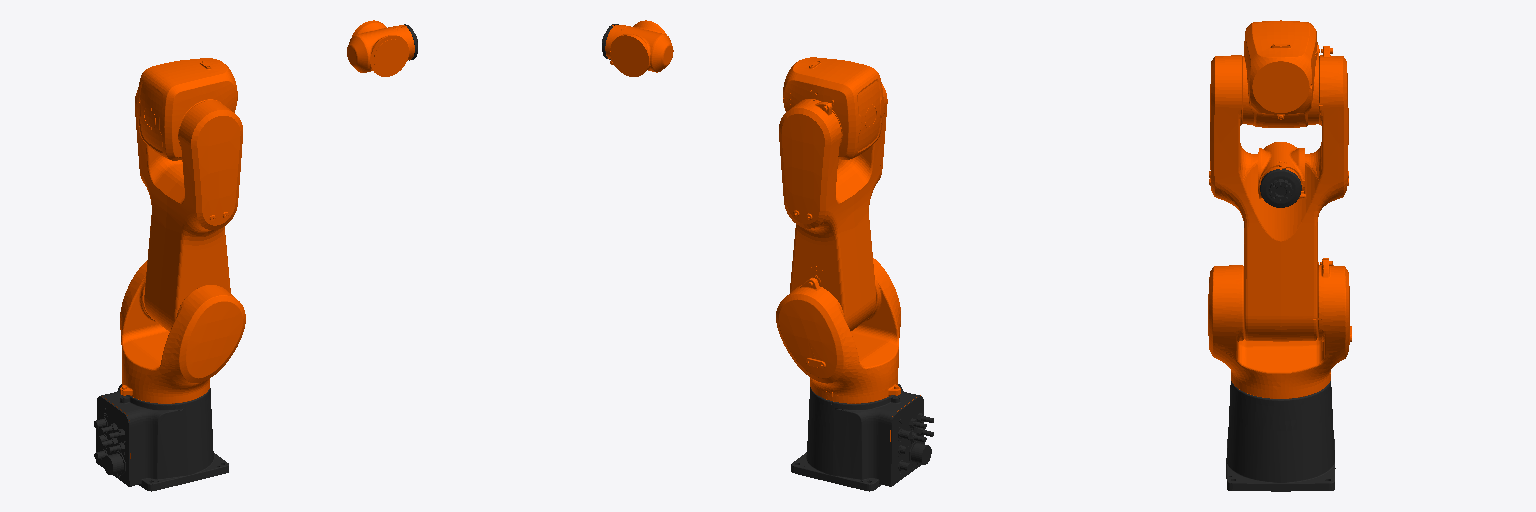
robot.urdf — kuka_kr_7_r900_3_e:
<?xml version="1.0"?>
<robot name="kuka_kr_7_r900_3_e">
  <material name="kuka_orange"><color rgba="1.00 0.40 0.00 1.0"/></material>
  <material name="kuka_dark_gray"><color rgba="0.20 0.20 0.20 1.0"/></material>

  <link name="base_link">
    <inertial>
      <origin xyz="-0.023319 -0.000601 0.079598" rpy="0 0 0"/>
      <mass value="12.444"/>
      <inertia ixx="0.068915" ixy="-0.000585" ixz="0.001129" iyy="0.083646" iyz="-0.000027" izz="0.079696"/>
    </inertial>
    <visual>
      <origin xyz="0 0 0" rpy="0 0 0"/>
      <geometry><mesh filename="meshes/visual/base_link.stl"/></geometry>
      <material name="kuka_dark_gray"/>
    </visual>
    <collision>
      <origin xyz="0 0 0" rpy="0 0 0"/>
      <geometry><mesh filename="meshes/visual/base_link.stl"/></geometry>
    </collision>
  </link>

  <link name="link_1">
    <inertial>
      <origin xyz="0.021613 -0.001135 0.278907" rpy="0 0 0"/>
      <mass value="16.333"/>
      <inertia ixx="0.130600" ixy="0.000041" ixz="-0.013331" iyy="0.092271" iyz="0.000093" izz="0.108988"/>
    </inertial>
    <visual>
      <origin xyz="0 0 0" rpy="0 0 0"/>
      <geometry><mesh filename="meshes/visual/link_1.stl"/></geometry>
      <material name="kuka_orange"/>
    </visual>
    <collision>
      <origin xyz="0 0 0" rpy="0 0 0"/>
      <geometry><mesh filename="meshes/visual/link_1.stl"/></geometry>
    </collision>
  </link>

  <link name="link_2">
    <inertial>
      <origin xyz="-0.000636 -0.001743 0.212659" rpy="0 0 0"/>
      <mass value="20.222"/>
      <inertia ixx="0.393340" ixy="0.000117" ixz="0.000545" iyy="0.343101" iyz="0.001696" izz="0.110768"/>
    </inertial>
    <visual>
      <origin xyz="0 0 0" rpy="0 0 0"/>
      <geometry><mesh filename="meshes/visual/link_2.stl"/></geometry>
      <material name="kuka_orange"/>
    </visual>
    <collision>
      <origin xyz="0 0 0" rpy="0 0 0"/>
      <geometry><mesh filename="meshes/visual/link_2.stl"/></geometry>
    </collision>
  </link>

  <link name="link_3">
    <inertial>
      <origin xyz="-0.005567 0.000101 0.021640" rpy="0 0 0"/>
      <mass value="15.556"/>
      <inertia ixx="0.065493" ixy="-0.000013" ixz="-0.002737" iyy="0.074634" iyz="-0.000030" izz="0.066513"/>
    </inertial>
    <visual>
      <origin xyz="0 0 0" rpy="0 0 0"/>
      <geometry><mesh filename="meshes/visual/link_3.stl"/></geometry>
      <material name="kuka_orange"/>
    </visual>
    <collision>
      <origin xyz="0 0 0" rpy="0 0 0"/>
      <geometry><mesh filename="meshes/visual/link_3.stl"/></geometry>
    </collision>
  </link>

  <link name="link_4">
    <inertial>
      <origin xyz="-0.152879 0.000991 0.000352" rpy="0 0 0"/>
      <mass value="3.500"/>
      <inertia ixx="0.011369" ixy="-0.000239" ixz="-0.000071" iyy="0.035267" iyz="0.000016" izz="0.037238"/>
    </inertial>
    <visual>
      <origin xyz="0 0 0" rpy="0 0 0"/>
      <geometry><mesh filename="meshes/visual/link_4.stl"/></geometry>
      <material name="kuka_orange"/>
    </visual>
    <collision>
      <origin xyz="0 0 0" rpy="0 0 0"/>
      <geometry><mesh filename="meshes/visual/link_4.stl"/></geometry>
    </collision>
  </link>

  <link name="link_5">
    <inertial>
      <origin xyz="-0.007892 0.001422 -0.004729" rpy="0 0 0"/>
      <mass value="3.111"/>
      <inertia ixx="0.012269" ixy="0.000056" ixz="-0.005279" iyy="0.017330" iyz="0.000108" izz="0.011671"/>
    </inertial>
    <visual>
      <origin xyz="0 0 0" rpy="0 0 0"/>
      <geometry><mesh filename="meshes/visual/link_5.stl"/></geometry>
      <material name="kuka_orange"/>
    </visual>
    <collision>
      <origin xyz="0 0 0" rpy="0 0 0"/>
      <geometry><mesh filename="meshes/visual/link_5.stl"/></geometry>
    </collision>
  </link>

  <link name="link_6">
    <inertial>
      <origin xyz="-0.007510 -0.000020 -0.000067" rpy="0 0 0"/>
      <mass value="1.944"/>
      <inertia ixx="0.002767" ixy="-0.000000" ixz="-0.000001" iyy="0.002380" iyz="0.000000" izz="0.002382"/>
    </inertial>
    <visual>
      <origin xyz="0 0 0" rpy="0 0 0"/>
      <geometry><mesh filename="meshes/visual/link_6.stl"/></geometry>
      <material name="kuka_dark_gray"/>
    </visual>
    <collision>
      <origin xyz="0 0 0" rpy="0 0 0"/>
      <geometry><mesh filename="meshes/visual/link_6.stl"/></geometry>
    </collision>
  </link>

  <link name="tool0"/>

  <joint name="joint_a1" type="revolute">
    <parent link="base_link"/>
    <child link="link_1"/>
    <origin xyz="0.000000 0.000000 0.000000" rpy="0 0 0"/>
    <axis xyz="0.0 0.0 -1.0"/>
    <limit lower="-3.228859" upper="3.228859" effort="505.6" velocity="3.000000"/>
    <dynamics damping="5.0" friction="1.0"/>
  </joint>

  <joint name="joint_a2" type="revolute">
    <parent link="link_1"/>
    <child link="link_2"/>
    <origin xyz="0.050000 0.000000 0.342000" rpy="0 0 0"/>
    <axis xyz="0.0 1.0 0.0"/>
    <limit lower="-1.745329" upper="2.268928" effort="583.3" velocity="3.000000"/>
    <dynamics damping="5.0" friction="1.0"/>
  </joint>

  <joint name="joint_a3" type="revolute">
    <parent link="link_2"/>
    <child link="link_3"/>
    <origin xyz="0.000000 0.000000 0.410000" rpy="0 0 0"/>
    <axis xyz="0.0 1.0 0.0"/>
    <limit lower="-3.577925" upper="1.221730" effort="388.9" velocity="3.000000"/>
    <dynamics damping="5.0" friction="1.0"/>
  </joint>

  <joint name="joint_a4" type="revolute">
    <parent link="link_3"/>
    <child link="link_4"/>
    <origin xyz="0.440000 0.000000 0.045000" rpy="0 0 0"/>
    <axis xyz="-1.0 0.0 -0.0"/>
    <limit lower="-3.490659" upper="3.490659" effort="155.6" velocity="3.000000"/>
    <dynamics damping="5.0" friction="1.0"/>
  </joint>

  <joint name="joint_a5" type="revolute">
    <parent link="link_4"/>
    <child link="link_5"/>
    <origin xyz="0.000000 0.000000 0.000000" rpy="0 0 0"/>
    <axis xyz="0.0 1.0 0.0"/>
    <limit lower="-2.094395" upper="2.094395" effort="108.9" velocity="3.000000"/>
    <dynamics damping="5.0" friction="1.0"/>
  </joint>

  <joint name="joint_a6" type="revolute">
    <parent link="link_5"/>
    <child link="link_6"/>
    <origin xyz="0.077000 0.000000 0.000000" rpy="0 0 0"/>
    <axis xyz="-1.0 0.0 -0.0"/>
    <limit lower="-6.108652" upper="6.108652" effort="66.1" velocity="3.000000"/>
    <dynamics damping="5.0" friction="1.0"/>
  </joint>

  <joint name="link_6-tool0" type="fixed">
    <parent link="link_6"/>
    <child link="tool0"/>
    <origin xyz="0.000000 0.000000 0.000000" rpy="0 1.57079632679 0"/>
  </joint>
</robot>

--- What the picture shows (computed from the rendered views, not written in the file) ---
Views: 3 orthographic renders of the robot side by side, from view 1: azimuth 30°, elevation 25°; view 2: azimuth 150°, elevation 25°; view 3: azimuth 270°, elevation 25°.
Robot: kuka_kr_7_r900_3_e — 8 links, 7 joints (6 revolute, 1 fixed); root link base_link; default pose: all joints at 0.
Links seen in each view (by area): view 1: link_2, link_1, base_link, link_3, link_5; view 2: link_2, link_1, base_link, link_3, link_5; view 3: link_2, link_1, base_link, link_3, link_5, link_6.
Link boxes in pixels (<box>): link_2: <box>135,90,242,331</box>; link_1: <box>120,261,245,403</box>; base_link: <box>94,384,228,491</box>; link_3: <box>137,58,237,160</box>; link_5: <box>102,20,414,458</box>; link_2: <box>779,84,887,330</box>; link_1: <box>776,258,900,403</box>; base_link: <box>791,384,933,491</box>; link_3: <box>783,57,883,159</box>; link_5: <box>605,20,920,441</box>; link_2: <box>1209,46,1348,341</box>; link_1: <box>1208,258,1351,398</box>; base_link: <box>1226,381,1335,491</box>; link_3: <box>1243,20,1319,127</box>; link_5: <box>1258,142,1305,198</box>; link_6: <box>1260,169,1301,207</box>.
Size in the robot's own frame: 0.7229 by 0.2513 by 0.857 metres.
Meshes: 7 distinct files referenced, 6 mesh visuals loaded (6 binary STL); not drawn: 1 (reference not matched to a file when rendering).
